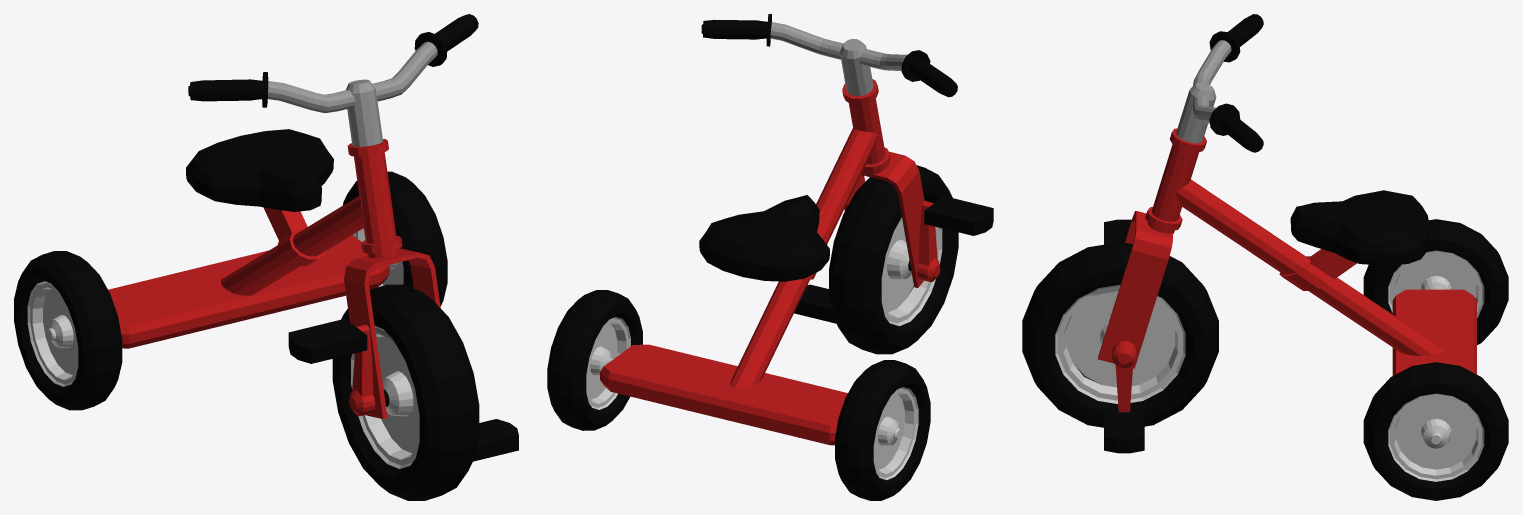
The model's file is tri_cycle.gltf.
3 renders of one model, left to right at view 1: azimuth 30°, elevation 25°; view 2: azimuth 150°, elevation 25°; view 3: azimuth 270°, elevation 25°, orthographic. The views are drawn at different scales.
Parts seen in each view (by area): view 1: Tricycle; view 2: Tricycle; view 3: Tricycle.
Boxes of the visible parts, x1,y1,x2,y2 form: Tricycle: [14, 14, 518, 500]; Tricycle: [547, 14, 993, 500]; Tricycle: [1022, 14, 1508, 500].
Bounding box in the file's own units: 0.601 × 0.6267 × 0.7711.
Materials: 1 (1 with a texture image).
